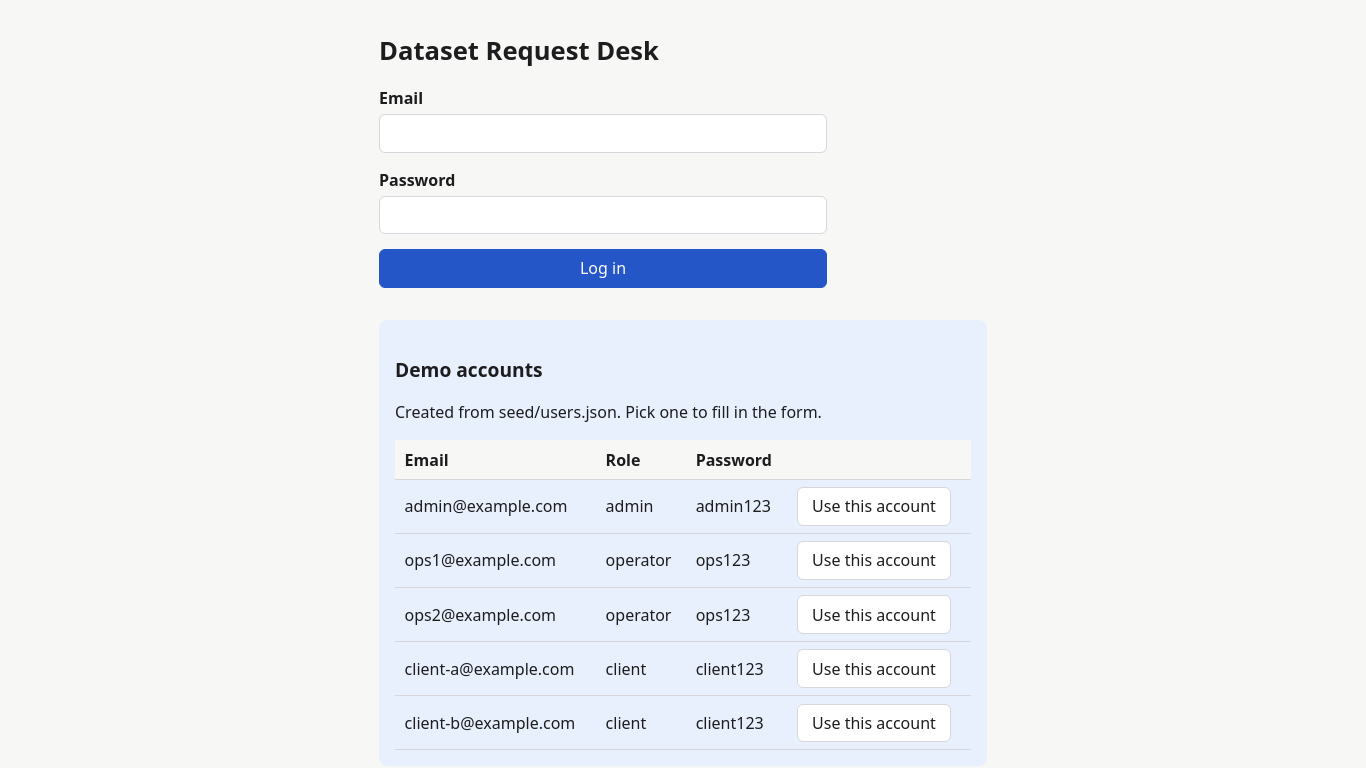
Test case: login › goes to the requests page after logging in
Click the button named "Use client-a@example.com".
click(874, 669)  # box 797,649 -> 951,688
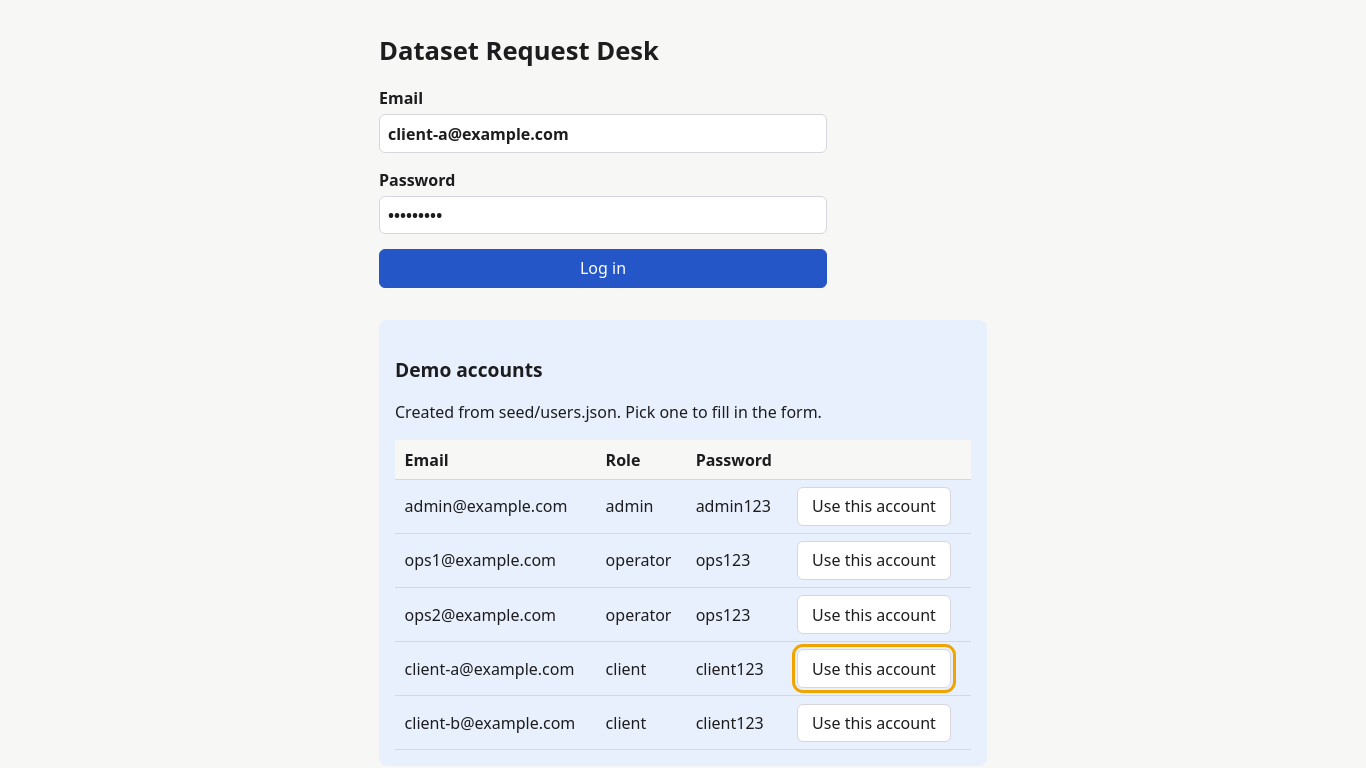
Click the button "Log in".
click(603, 268)  # box 379,249 -> 827,288
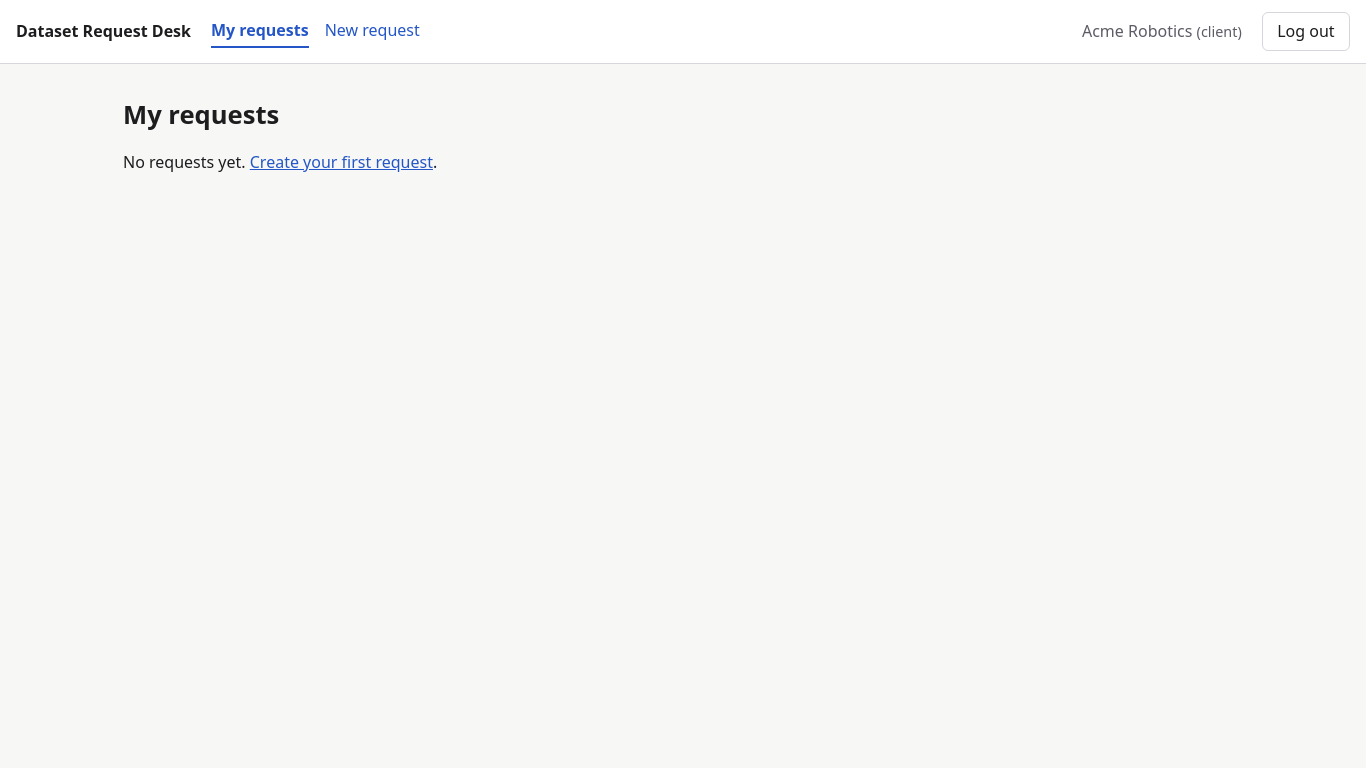
Expected: the heading "My requests" is shown, 123,97 -> 279,132
